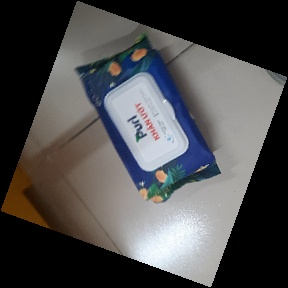Puri Xanh: (75, 31, 225, 208)
